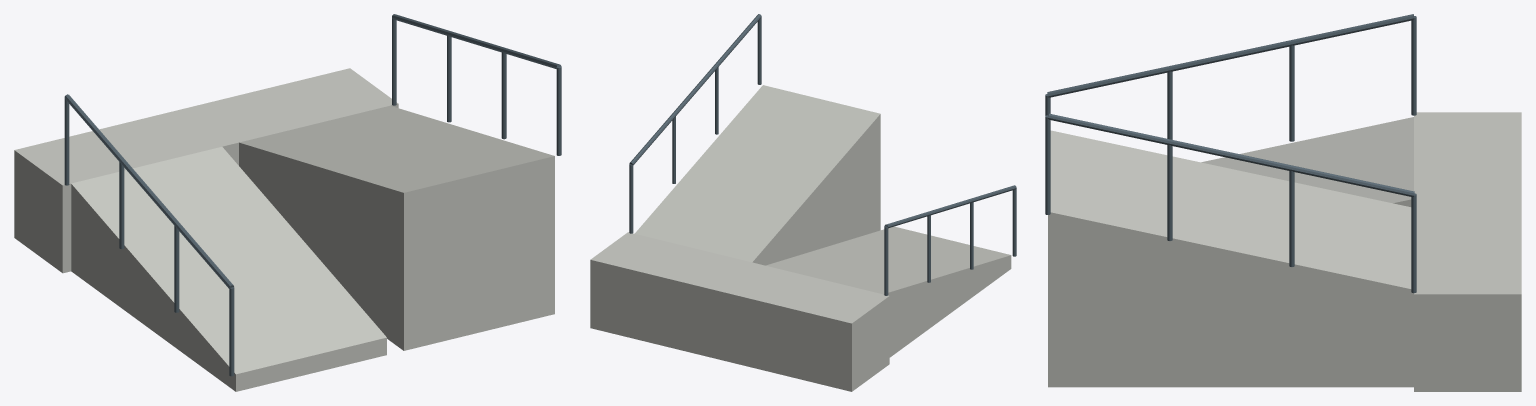
File: american-football-stadium-kit-switchback-ramp-943f4dd2.glb
3 views of the same model, side by side, from view 1: azimuth 30°, elevation 25°; view 2: azimuth 150°, elevation 25°; view 3: azimuth 270°, elevation 25° (orthographic). The views are drawn at different scales.
Visible parts, largest first — view 1: switchback-ramp; view 2: switchback-ramp; view 3: switchback-ramp.
Part boxes in pixels (left/top/right/bottom): switchback-ramp: left=14, top=14, right=561, bottom=391; switchback-ramp: left=590, top=14, right=1016, bottom=391; switchback-ramp: left=1045, top=14, right=1521, bottom=391.
Size of the model in its own units: 4 by 2.83 by 4.42.
